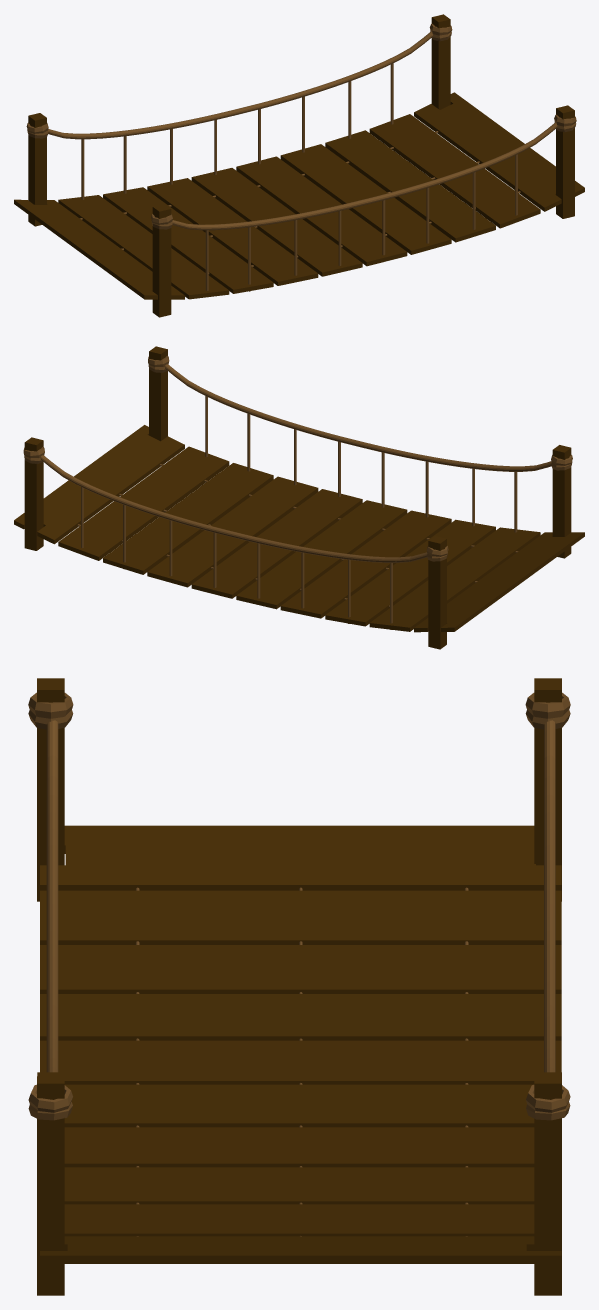
The model's file is Bridge.fbx.
The picture shows the model from 3 angles, top to bottom: view 1: azimuth 30°, elevation 25°; view 2: azimuth 150°, elevation 25°; view 3: azimuth 270°, elevation 25°; orthographic projection. The views are drawn at different scales.
Parts seen in each view (by area): view 1: Plane, Circle, Circle.018, Plane.001, Plane.008, Plane.009, Plane.004; view 2: Plane, Circle, Circle.018, Plane.004, Plane.009, Plane.001, Plane.008; view 3: Plane, Plane.008, Plane.004, Circle, Circle.018, Plane.001, Plane.009.
Part boxes in pixels (bbox=[...]): Plane: bbox=[14, 92, 584, 299]; Circle: bbox=[172, 122, 557, 230]; Circle.018: bbox=[48, 31, 432, 139]; Plane.001: bbox=[152, 204, 171, 317]; Plane.008: bbox=[556, 105, 574, 218]; Plane.009: bbox=[28, 113, 46, 226]; Plane.004: bbox=[431, 14, 450, 109]; Plane: bbox=[14, 425, 584, 632]; Circle: bbox=[165, 364, 551, 471]; Circle.018: bbox=[40, 455, 427, 562]; Plane.004: bbox=[24, 437, 43, 550]; Plane.009: bbox=[428, 536, 446, 649]; Plane.001: bbox=[552, 445, 571, 558]; Plane.008: bbox=[149, 346, 167, 441]; Plane: bbox=[40, 825, 561, 1263]; Plane.008: bbox=[37, 1072, 64, 1295]; Plane.004: bbox=[534, 1072, 561, 1295]; Circle: bbox=[46, 720, 58, 1072]; Circle.018: bbox=[544, 720, 555, 1072]; Plane.001: bbox=[37, 678, 64, 901]; Plane.009: bbox=[534, 678, 561, 901].
Size of the model in its own units: 218 by 50.74 by 116.
